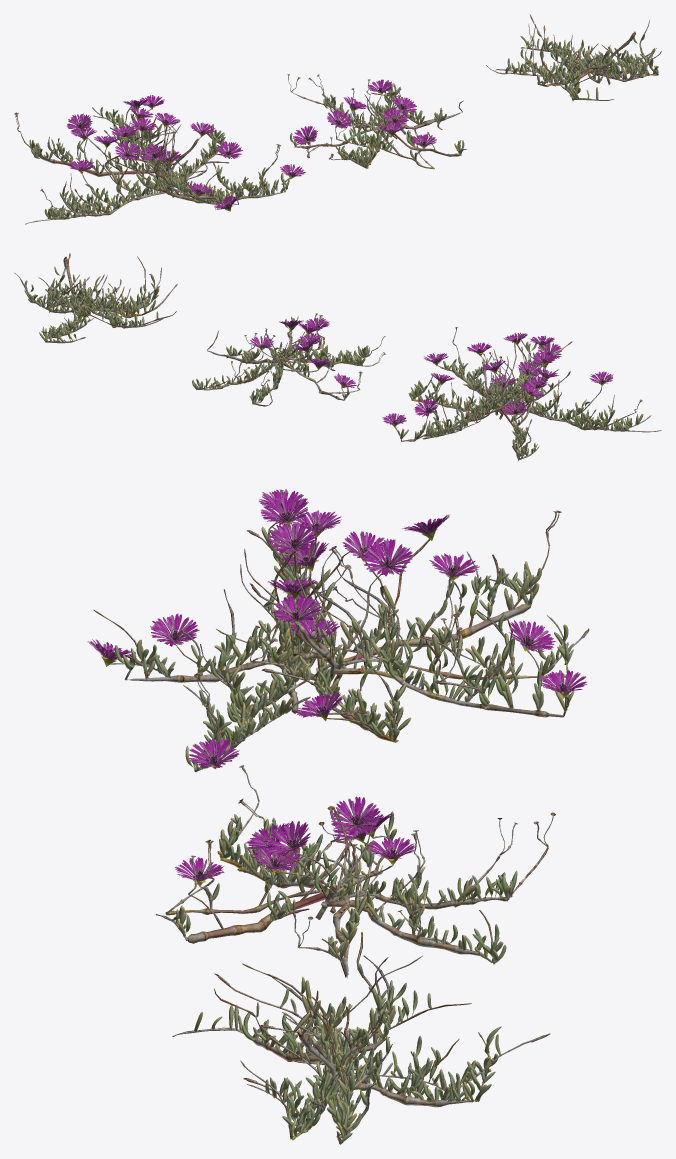
The model's file is leipoldtia_schultzei.glb.
3 renders of one model, top to bottom at view 1: azimuth 30°, elevation 25°; view 2: azimuth 150°, elevation 25°; view 3: azimuth 270°, elevation 25°, orthographic. The views are drawn at different scales.
Visible parts, largest first — view 1: leipoldtia_schultzei_Large_LOD0, leipoldtia_schultzei_Medium_LOD0, leipoldtia_schultzei_Small_LOD0; view 2: leipoldtia_schultzei_Large_LOD0, leipoldtia_schultzei_Medium_LOD0, leipoldtia_schultzei_Small_LOD0; view 3: leipoldtia_schultzei_Large_LOD0, leipoldtia_schultzei_Medium_LOD0, leipoldtia_schultzei_Small_LOD0.
Part boxes in pixels (x1,y1,x2,y2): leipoldtia_schultzei_Large_LOD0: (14,95,305,224); leipoldtia_schultzei_Medium_LOD0: (287,74,466,169); leipoldtia_schultzei_Small_LOD0: (486,14,661,100); leipoldtia_schultzei_Large_LOD0: (382,327,661,460); leipoldtia_schultzei_Medium_LOD0: (192,313,385,406); leipoldtia_schultzei_Small_LOD0: (14,253,177,343); leipoldtia_schultzei_Large_LOD0: (87,489,589,772); leipoldtia_schultzei_Medium_LOD0: (156,765,555,978); leipoldtia_schultzei_Small_LOD0: (172,932,550,1144).
Bounding box in the file's own units: 2.31 × 0.3171 × 0.8098.
Materials: 1 (1 with a texture image).
